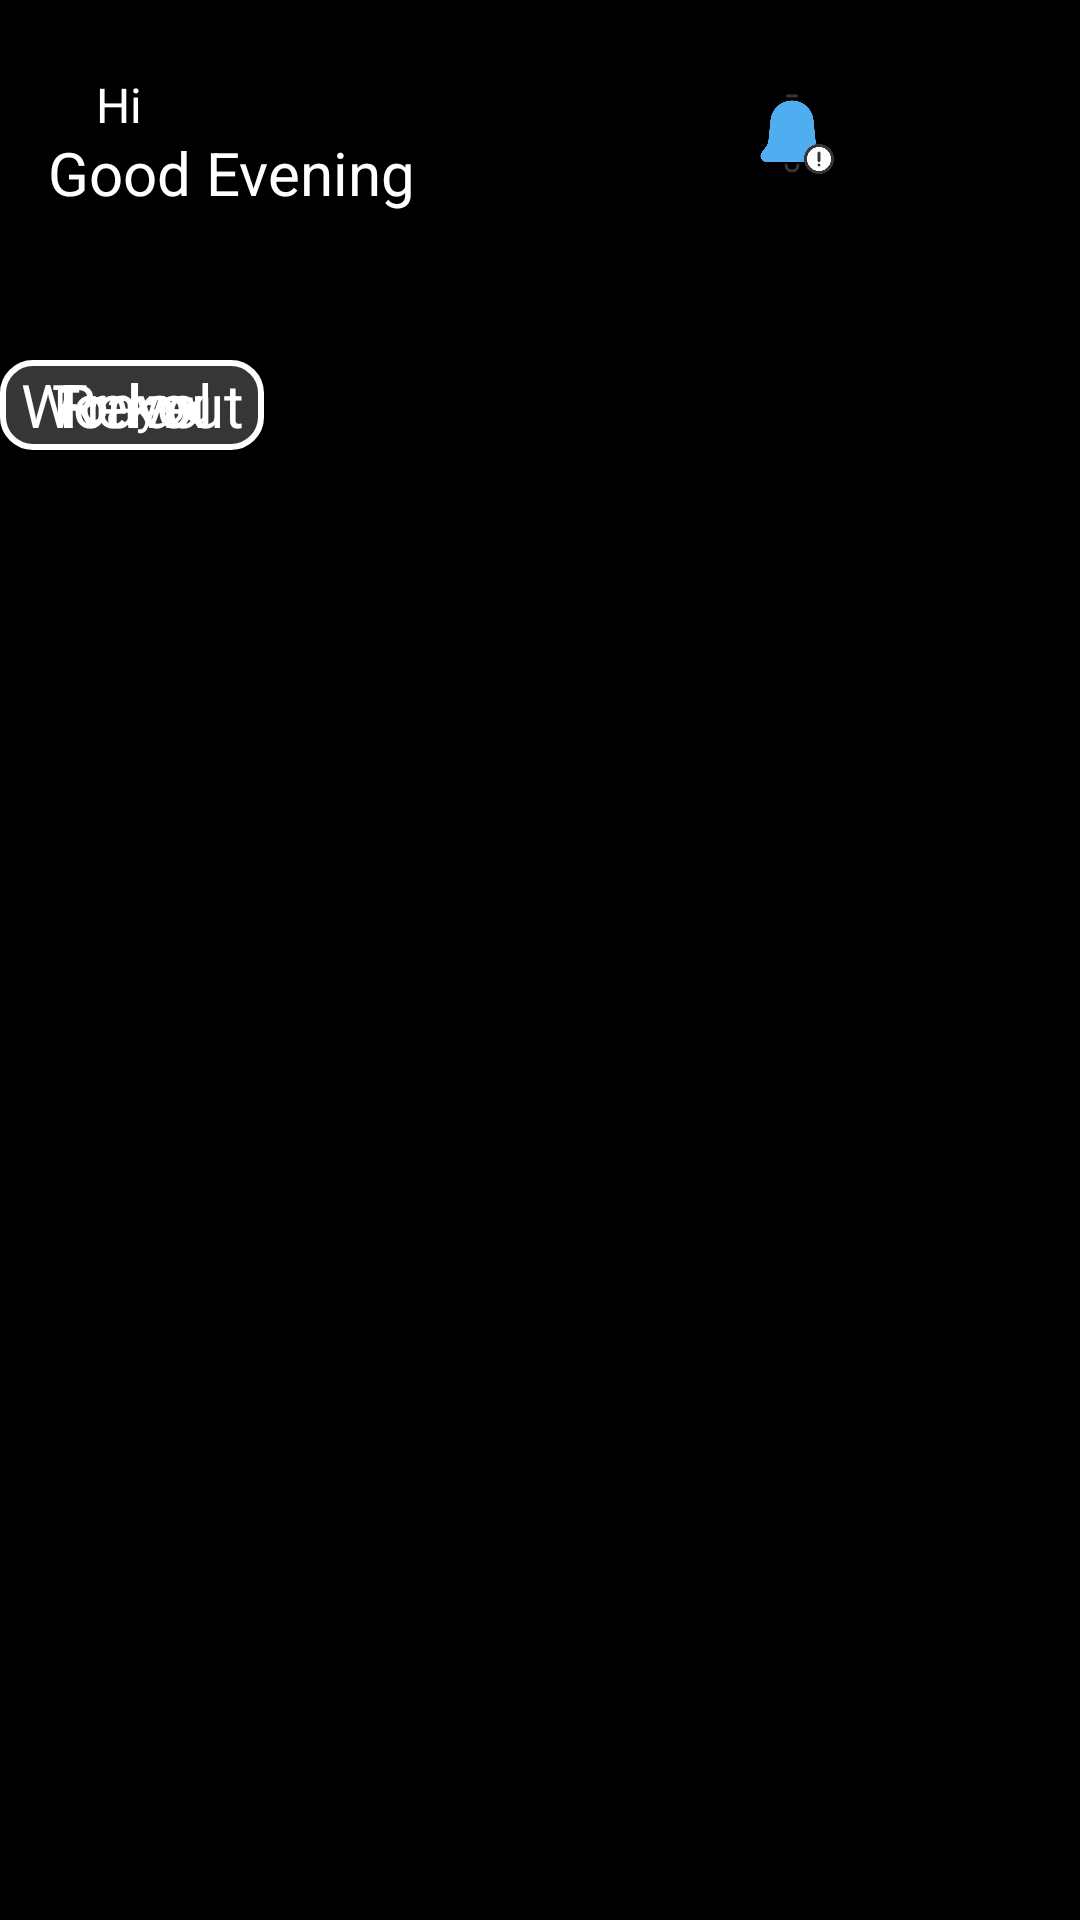

Named icons in this screenshot (1080*1920) and their bounding boxes, (x1, y1, x2, y2):
noti: (760, 94, 834, 174)
